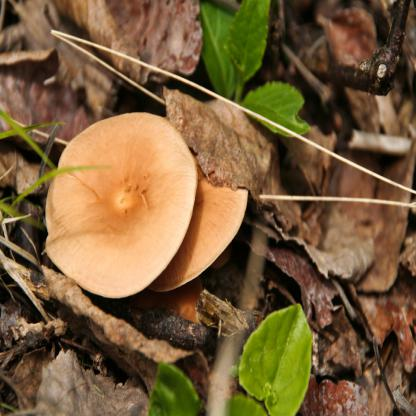Mushroom: (44, 115, 270, 335), (147, 148, 249, 292)
